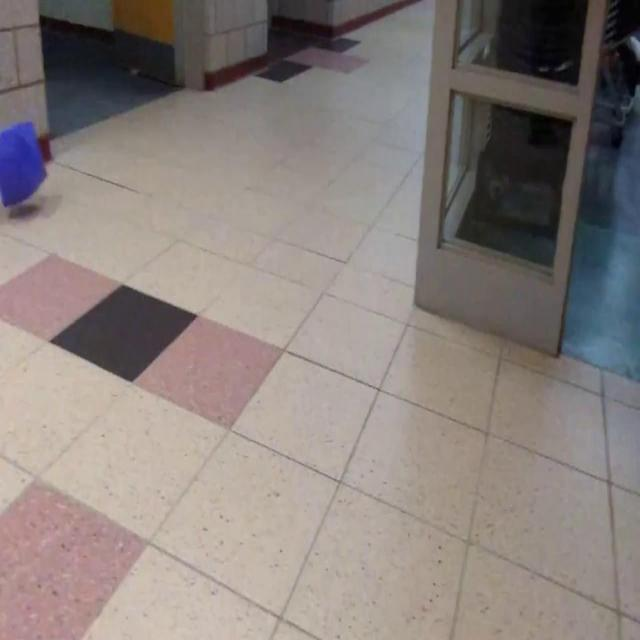frc_cube: (0, 118, 46, 207)
